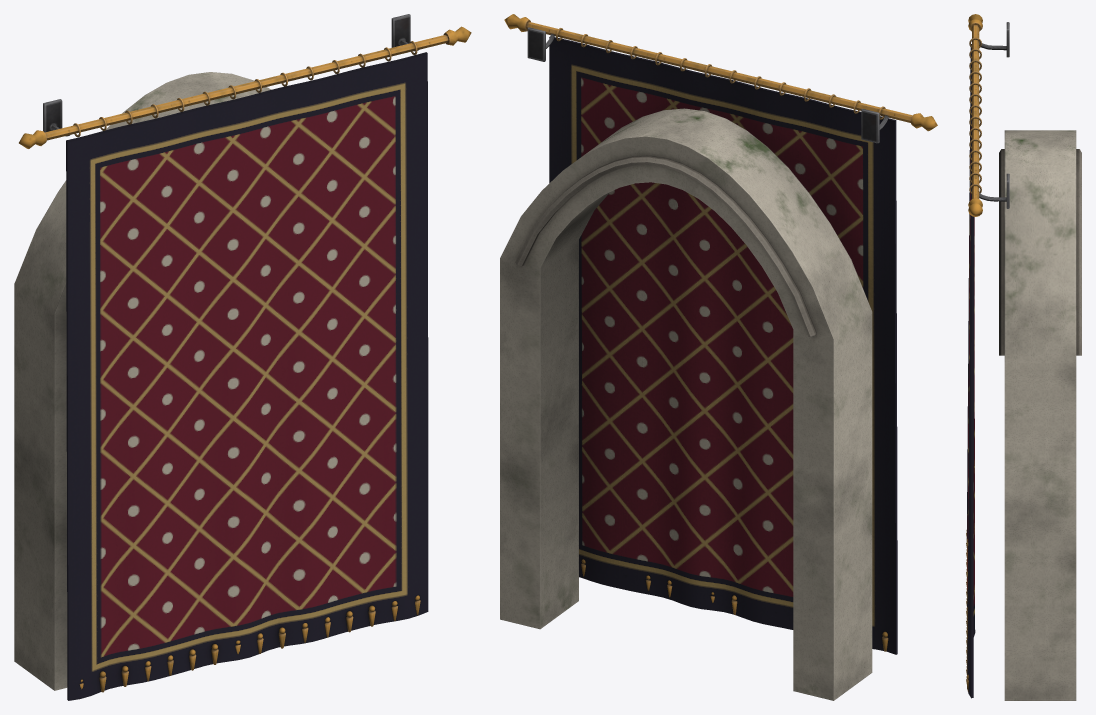
The model's file is TapestryPassage.fbx.
3 renders of one model, left to right at view 1: azimuth 30°, elevation 25°; view 2: azimuth 150°, elevation 25°; view 3: azimuth 270°, elevation 25°, orthographic. The views are drawn at different scales.
Parts seen in each view (by area): view 1: TapestryPassage_Cloth0, TapestryPassage_Main; view 2: TapestryPassage_Cloth0, TapestryPassage_Main; view 3: TapestryPassage_Main, TapestryPassage_Cloth0.
Boxes of the visible parts, x1,y1,x2,y2 form: TapestryPassage_Cloth0: [66, 41, 428, 700]; TapestryPassage_Main: [14, 14, 471, 690]; TapestryPassage_Cloth0: [549, 28, 897, 654]; TapestryPassage_Main: [500, 14, 937, 700]; TapestryPassage_Main: [968, 14, 1081, 700]; TapestryPassage_Cloth0: [966, 37, 981, 698].
Size of the model in its own units: 754 by 935 by 187.
